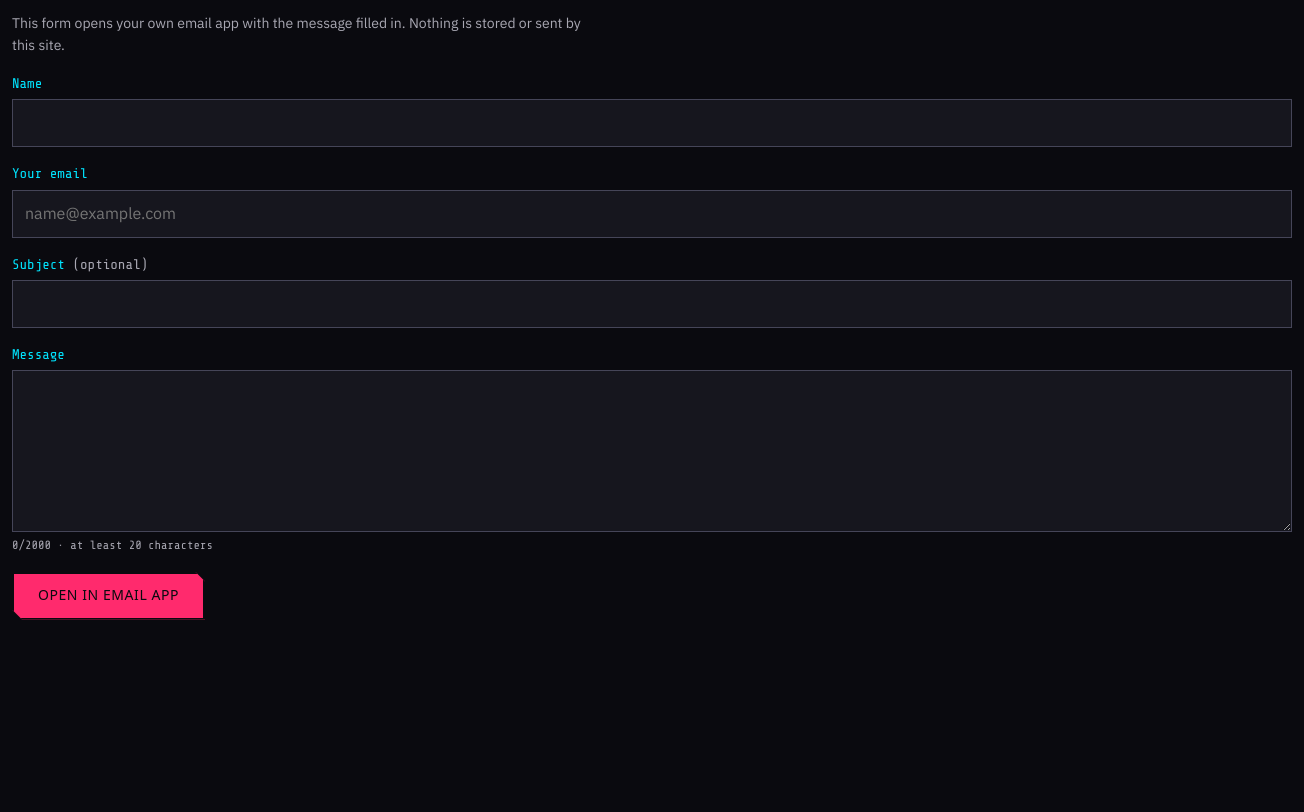
Test: Contact form › validates on submit and focuses the first invalid field
Click the button "Open in email app": (109, 596) [12,572,205,620]
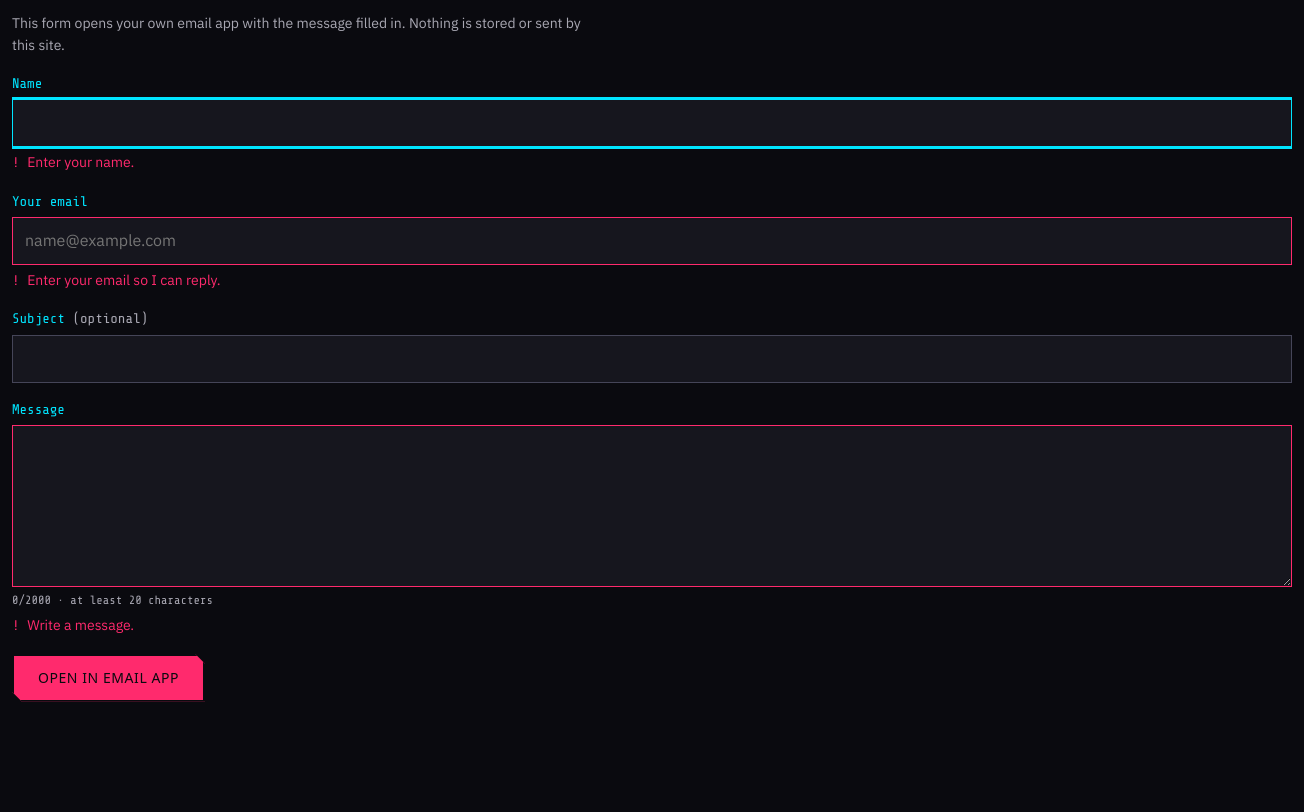
Check: the text "Enter your name." is shown, box [27,153,134,171]
